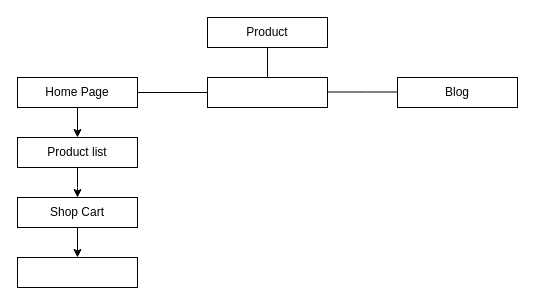
The diagram is 535 pixels wide and 305 high, and some of its shapes have lost their labels. Here are the shapes that lost their labels. From the top down, the box of each, then its label:
(206, 76, 328, 108): About us
(16, 256, 138, 288): Checkout
